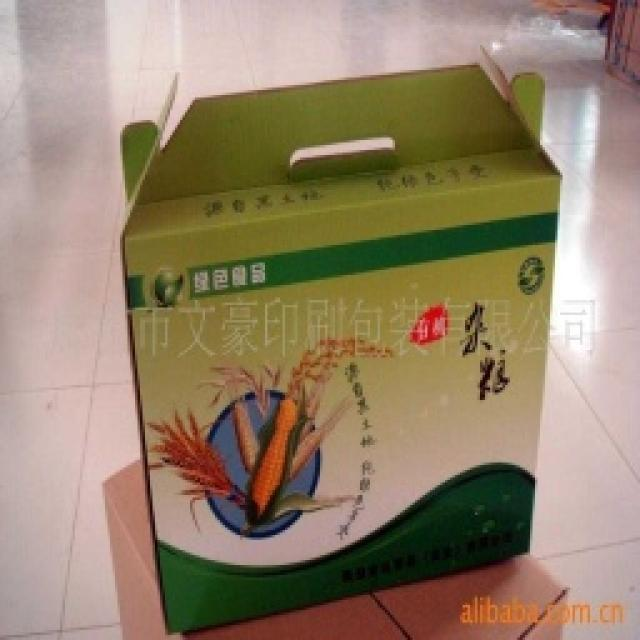box: (76, 81, 575, 607)
